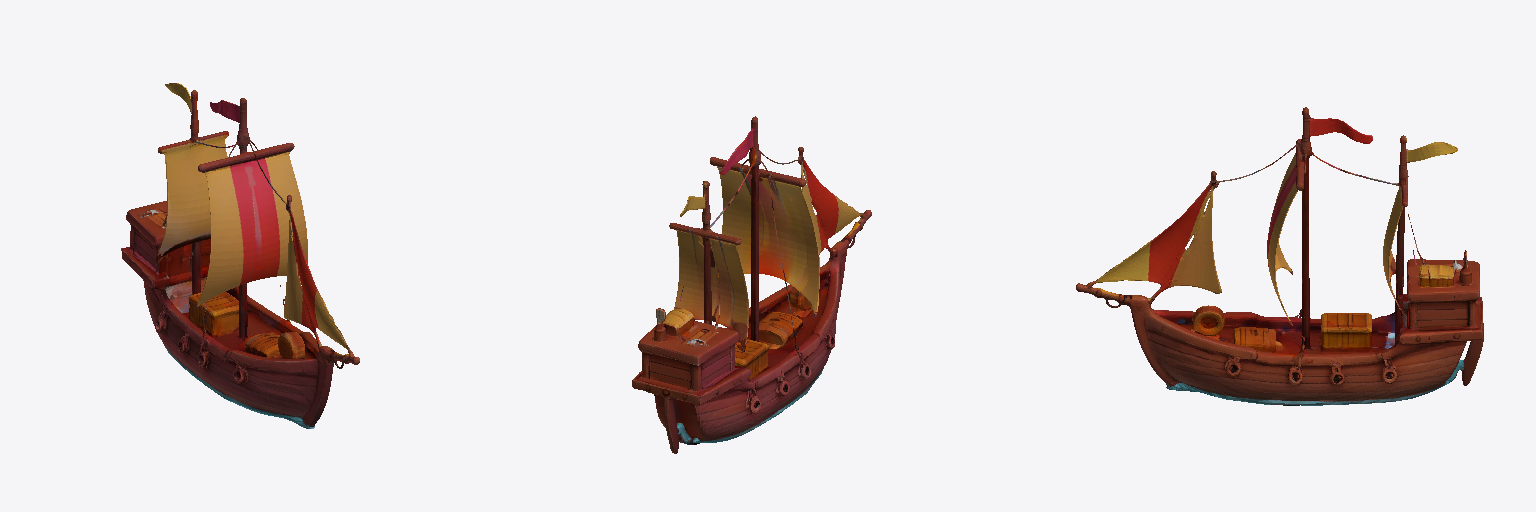
3 renders of one model, left to right at view 1: azimuth 30°, elevation 25°; view 2: azimuth 150°, elevation 25°; view 3: azimuth 270°, elevation 25°, orthographic.
Parts seen in each view (by area): view 1: tripo_node_7c6255a5-d2f2-4407-ad0b-2e3199ba301f; view 2: tripo_node_7c6255a5-d2f2-4407-ad0b-2e3199ba301f; view 3: tripo_node_7c6255a5-d2f2-4407-ad0b-2e3199ba301f.
Part boxes in pixels (x1,y1,x2,y2): tripo_node_7c6255a5-d2f2-4407-ad0b-2e3199ba301f: (121, 83, 359, 428); tripo_node_7c6255a5-d2f2-4407-ad0b-2e3199ba301f: (632, 116, 871, 453); tripo_node_7c6255a5-d2f2-4407-ad0b-2e3199ba301f: (1076, 107, 1483, 405).
Bounding box in the file's own units: 0.3092 × 0.8022 × 0.9991.
1 materials, 1 textured.